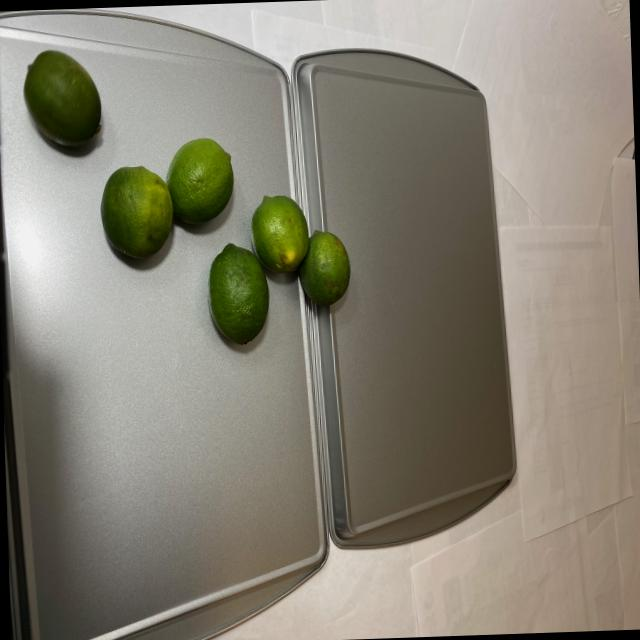lemon: (23, 40, 356, 356)
